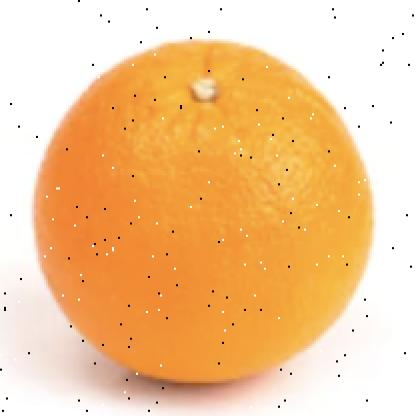fresh: (34, 39, 372, 386)
